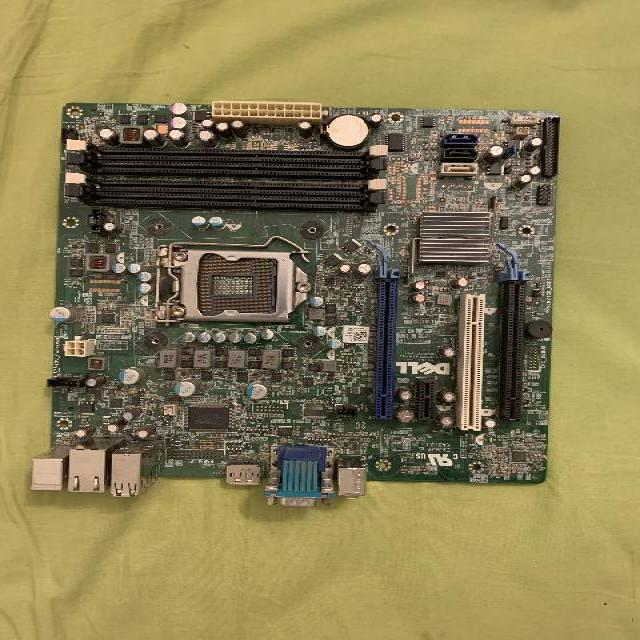Mainboard: (35, 101, 560, 508)
